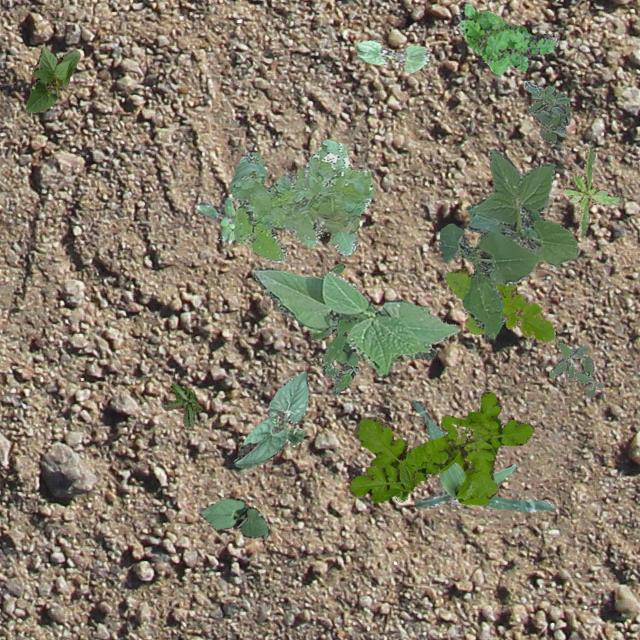crop: (252, 266, 460, 374), (409, 399, 554, 512), (232, 371, 308, 466), (24, 46, 78, 112), (196, 497, 268, 538), (354, 38, 428, 72)
weed: (438, 148, 578, 338), (348, 392, 532, 504), (228, 138, 372, 262), (444, 268, 554, 342), (454, 2, 558, 72), (308, 262, 356, 394), (564, 146, 620, 237), (548, 340, 602, 396), (524, 80, 568, 142), (160, 382, 202, 426), (196, 196, 234, 242)
